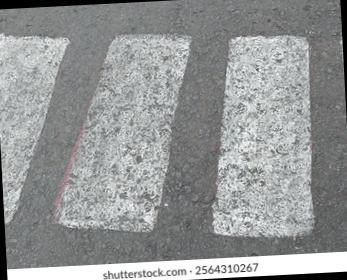faded_road_lines: (56, 34, 189, 231), (211, 37, 312, 236), (0, 35, 69, 223)
